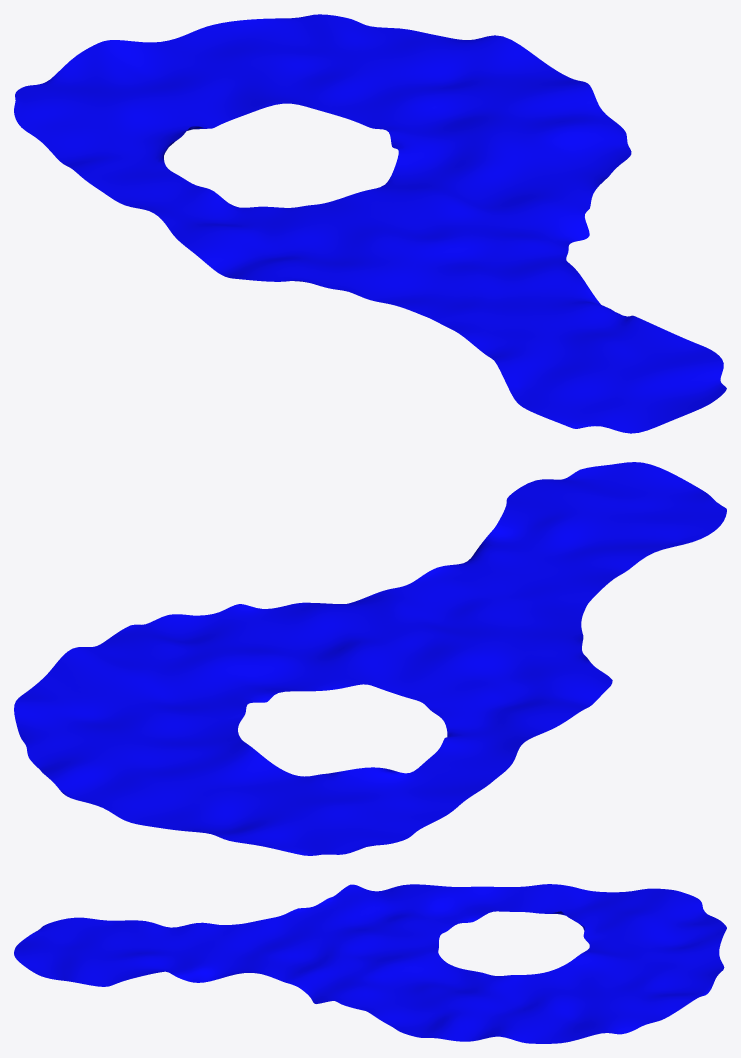
The picture shows the model from 3 angles, top to bottom: view 1: azimuth 30°, elevation 25°; view 2: azimuth 150°, elevation 25°; view 3: azimuth 270°, elevation 25°; orthographic projection. The views are drawn at different scales.
Visible parts, largest first — view 1: ET; view 2: ET; view 3: ET.
Boxes of the visible parts, bbox=[...] form: ET: bbox=[14, 14, 726, 433]; ET: bbox=[14, 462, 726, 855]; ET: bbox=[14, 884, 726, 1043].
Bounding box in the file's own units: 1.95 × 0.0813 × 3.72.
